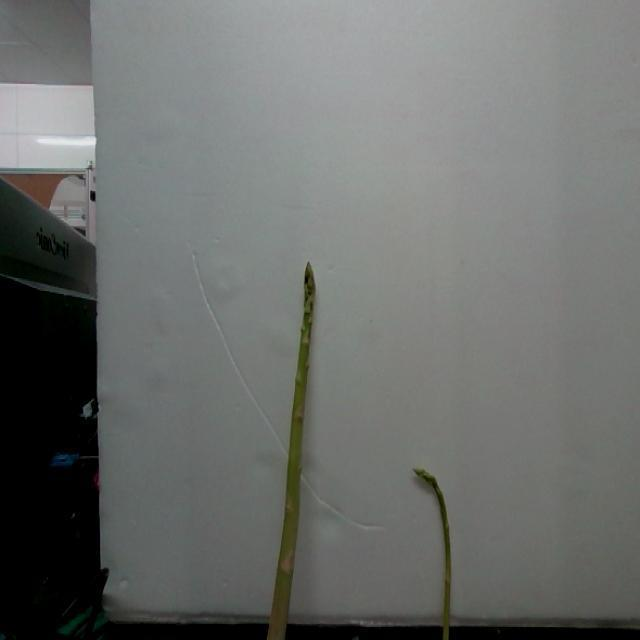aspargus: (265, 264, 318, 640), (416, 469, 455, 640)
